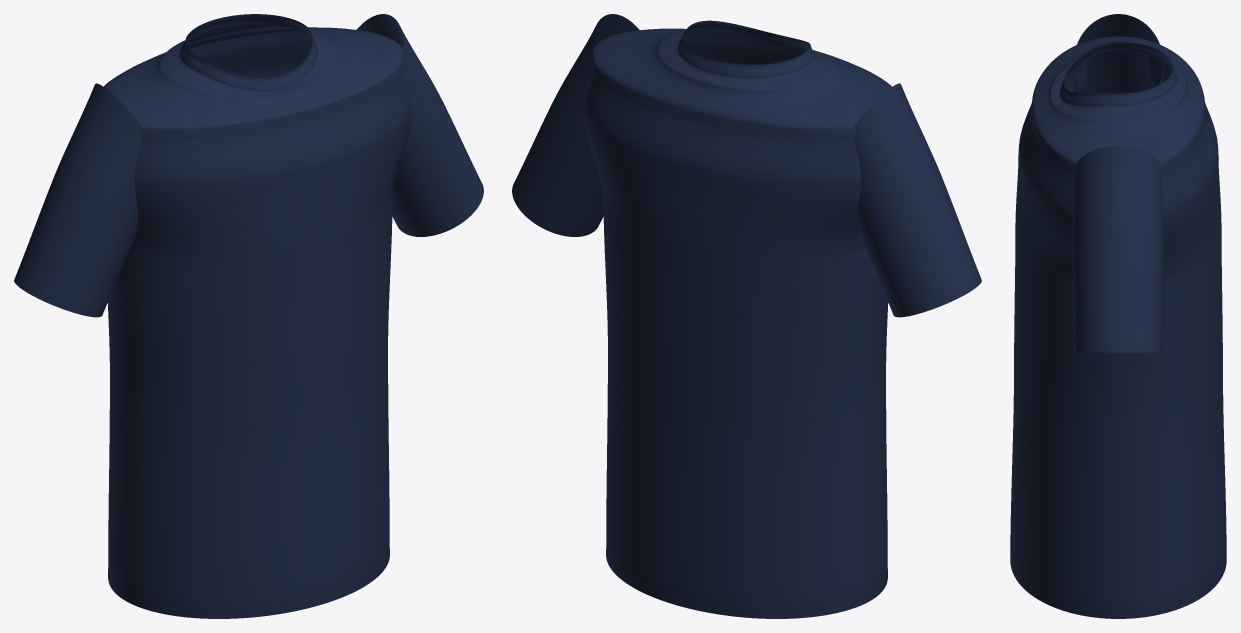
Rendered from demo-relaxed-tee--navy--m.r2.glb.
The picture shows the model from 3 angles, left to right: view 1: azimuth 30°, elevation 25°; view 2: azimuth 150°, elevation 25°; view 3: azimuth 270°, elevation 25°; orthographic projection. The views are drawn at different scales.
Visible parts, largest first — view 1: demo-relaxed-tee--navy--m; view 2: demo-relaxed-tee--navy--m; view 3: demo-relaxed-tee--navy--m.
Boxes of the visible parts, x1,y1,x2,y2 form: demo-relaxed-tee--navy--m: (14, 14, 483, 618); demo-relaxed-tee--navy--m: (512, 14, 981, 618); demo-relaxed-tee--navy--m: (1010, 14, 1226, 618).
Bounding box in the file's own units: 0.6577 × 0.726 × 0.289.
